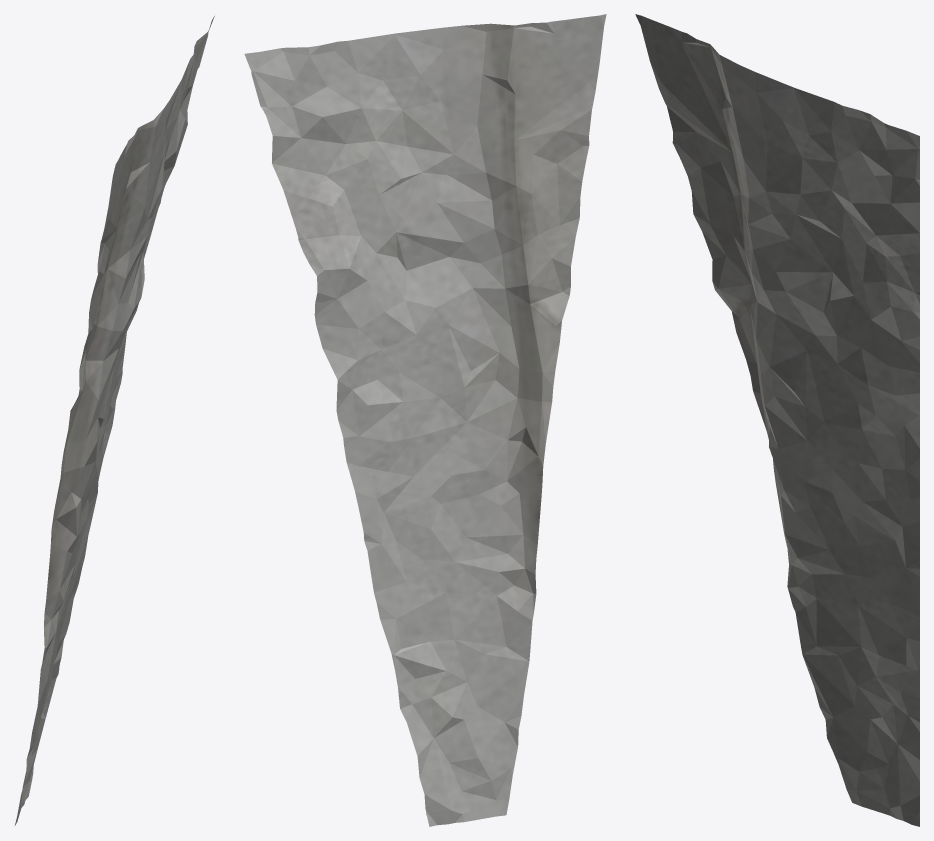
3 views of the same model, side by side, from view 1: azimuth 30°, elevation 25°; view 2: azimuth 150°, elevation 25°; view 3: azimuth 270°, elevation 25° (orthographic). The views are drawn at different scales.
Size of the model in its own units: 0.2779 by 0.8374 by 0.2739.
1 material, 1 textured.
